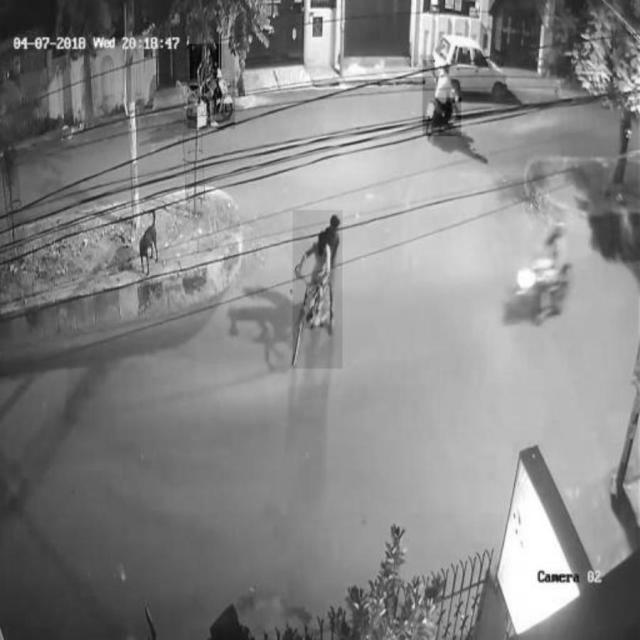vehicle: (292, 210, 343, 368), (436, 32, 508, 96), (188, 45, 235, 129), (422, 60, 460, 136)
